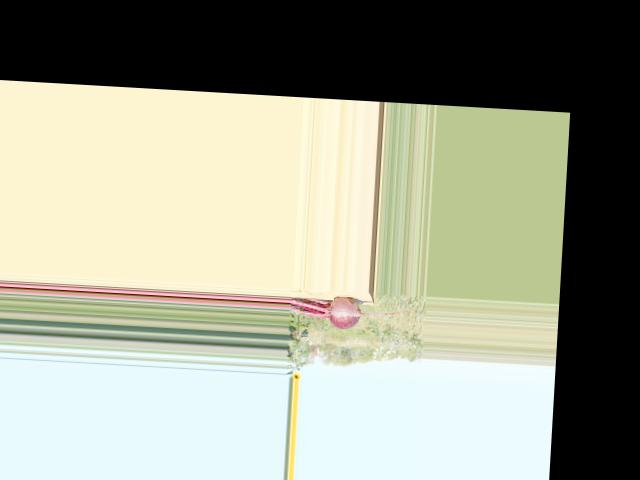beet: (287, 293, 421, 332)
